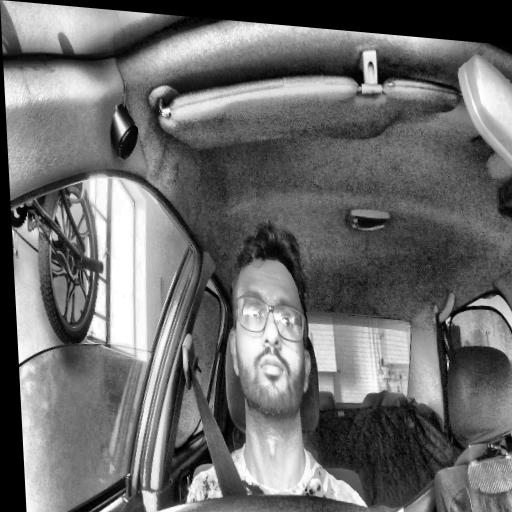awake: (226, 232, 315, 425)
